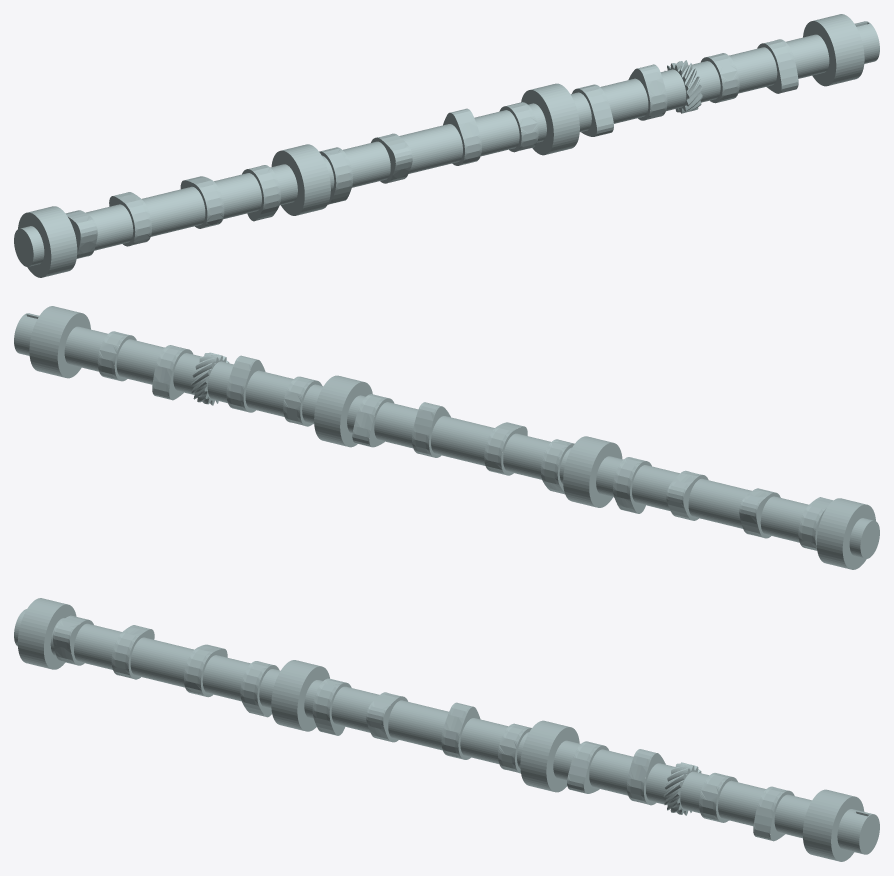
Rendered from camshaft.glb.
The picture shows the model from 3 angles, top to bottom: view 1: azimuth 30°, elevation 25°; view 2: azimuth 150°, elevation 25°; view 3: azimuth 330°, elevation 25°; orthographic projection.
Visible parts, largest first — view 1: world; view 2: world; view 3: world.
Part boxes in pixels (<box>): world: <box>14,14,879,277</box>; world: <box>14,306,879,569</box>; world: <box>14,598,879,861</box>.
Size of the model in its own units: 0.7473 by 0.0512 by 0.0512.
